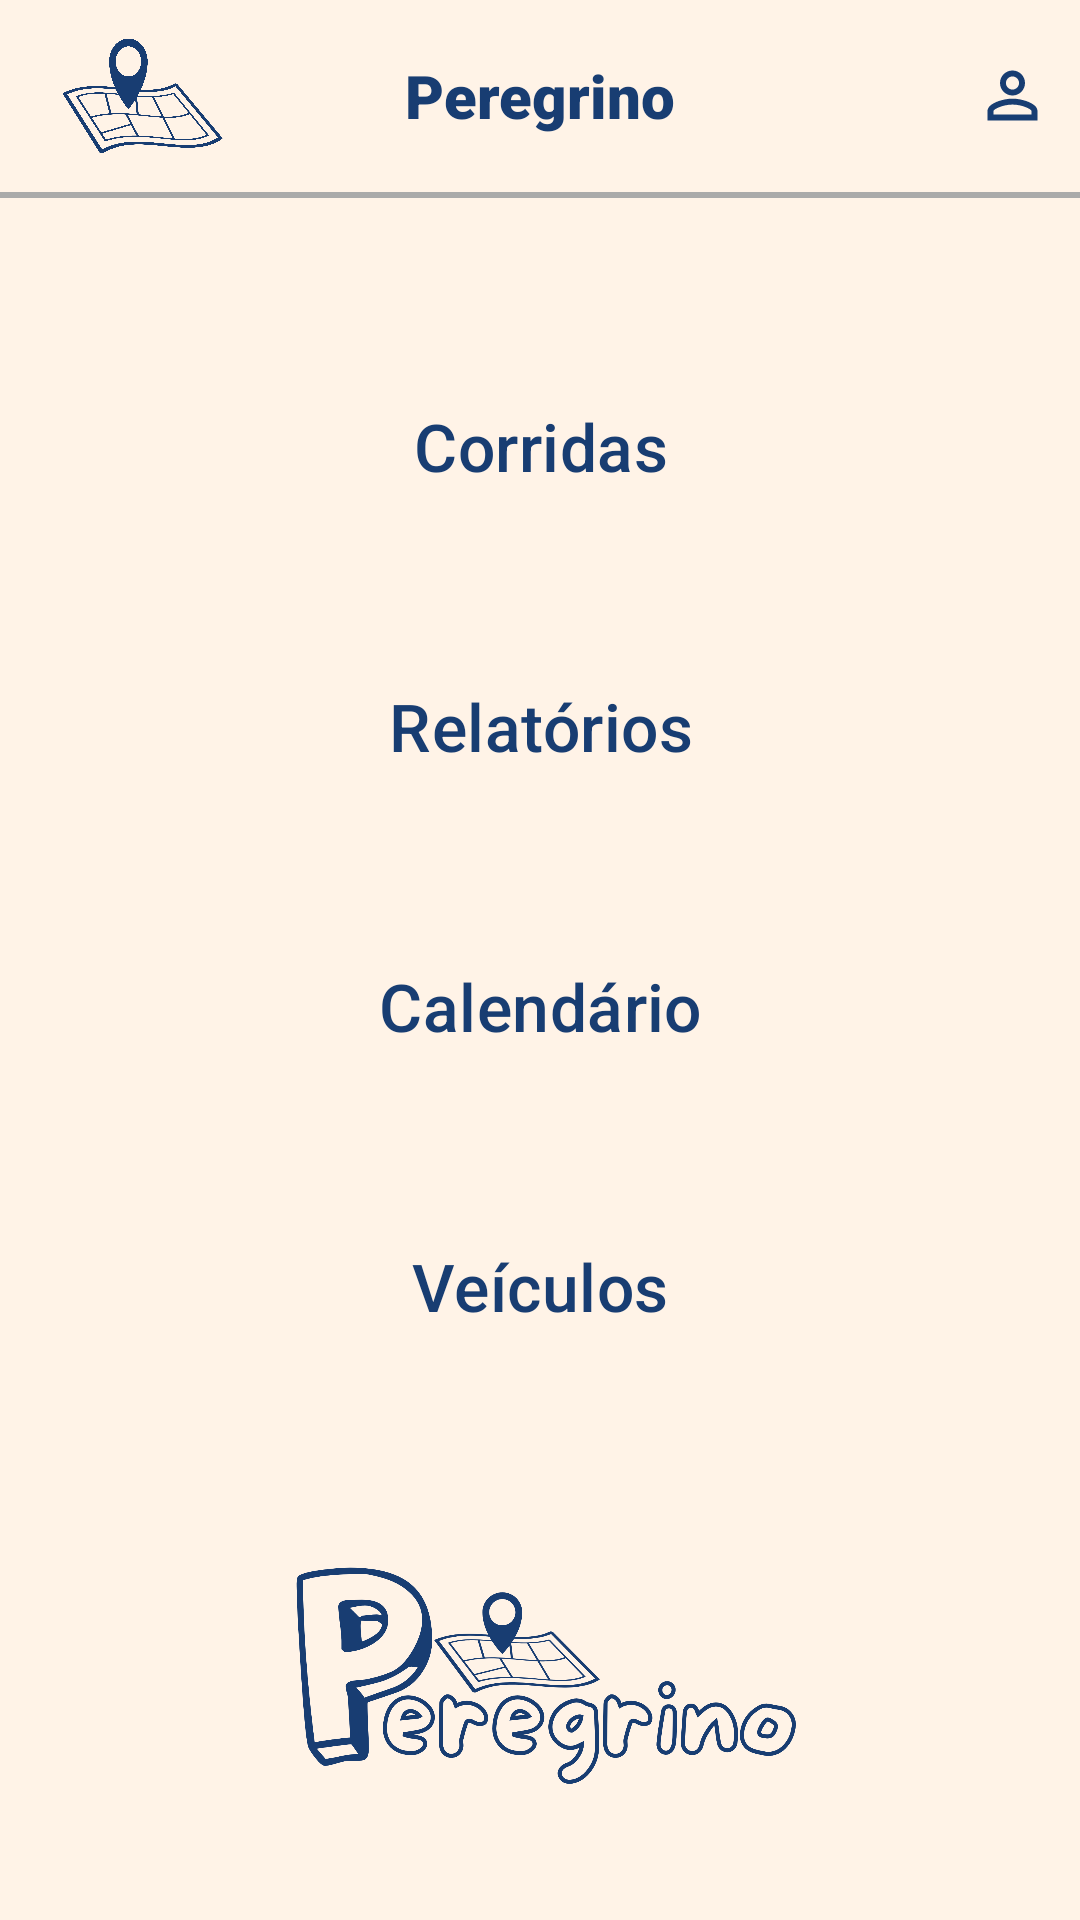

Icons on this 1080px x 1920px Android screen, each with the point to tap as [x,y]:
map: [143,96]
person: [1012,95]
